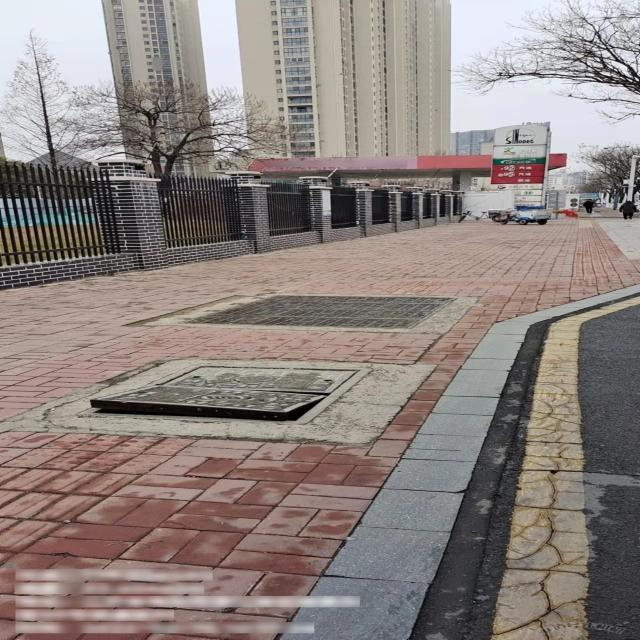Faulty: (73, 365, 367, 423)
Good: (183, 293, 462, 334)
